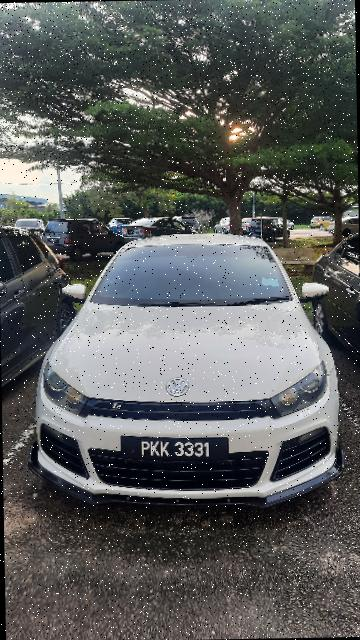License_Plate: (120, 433, 233, 468)
car: (24, 225, 349, 517)
